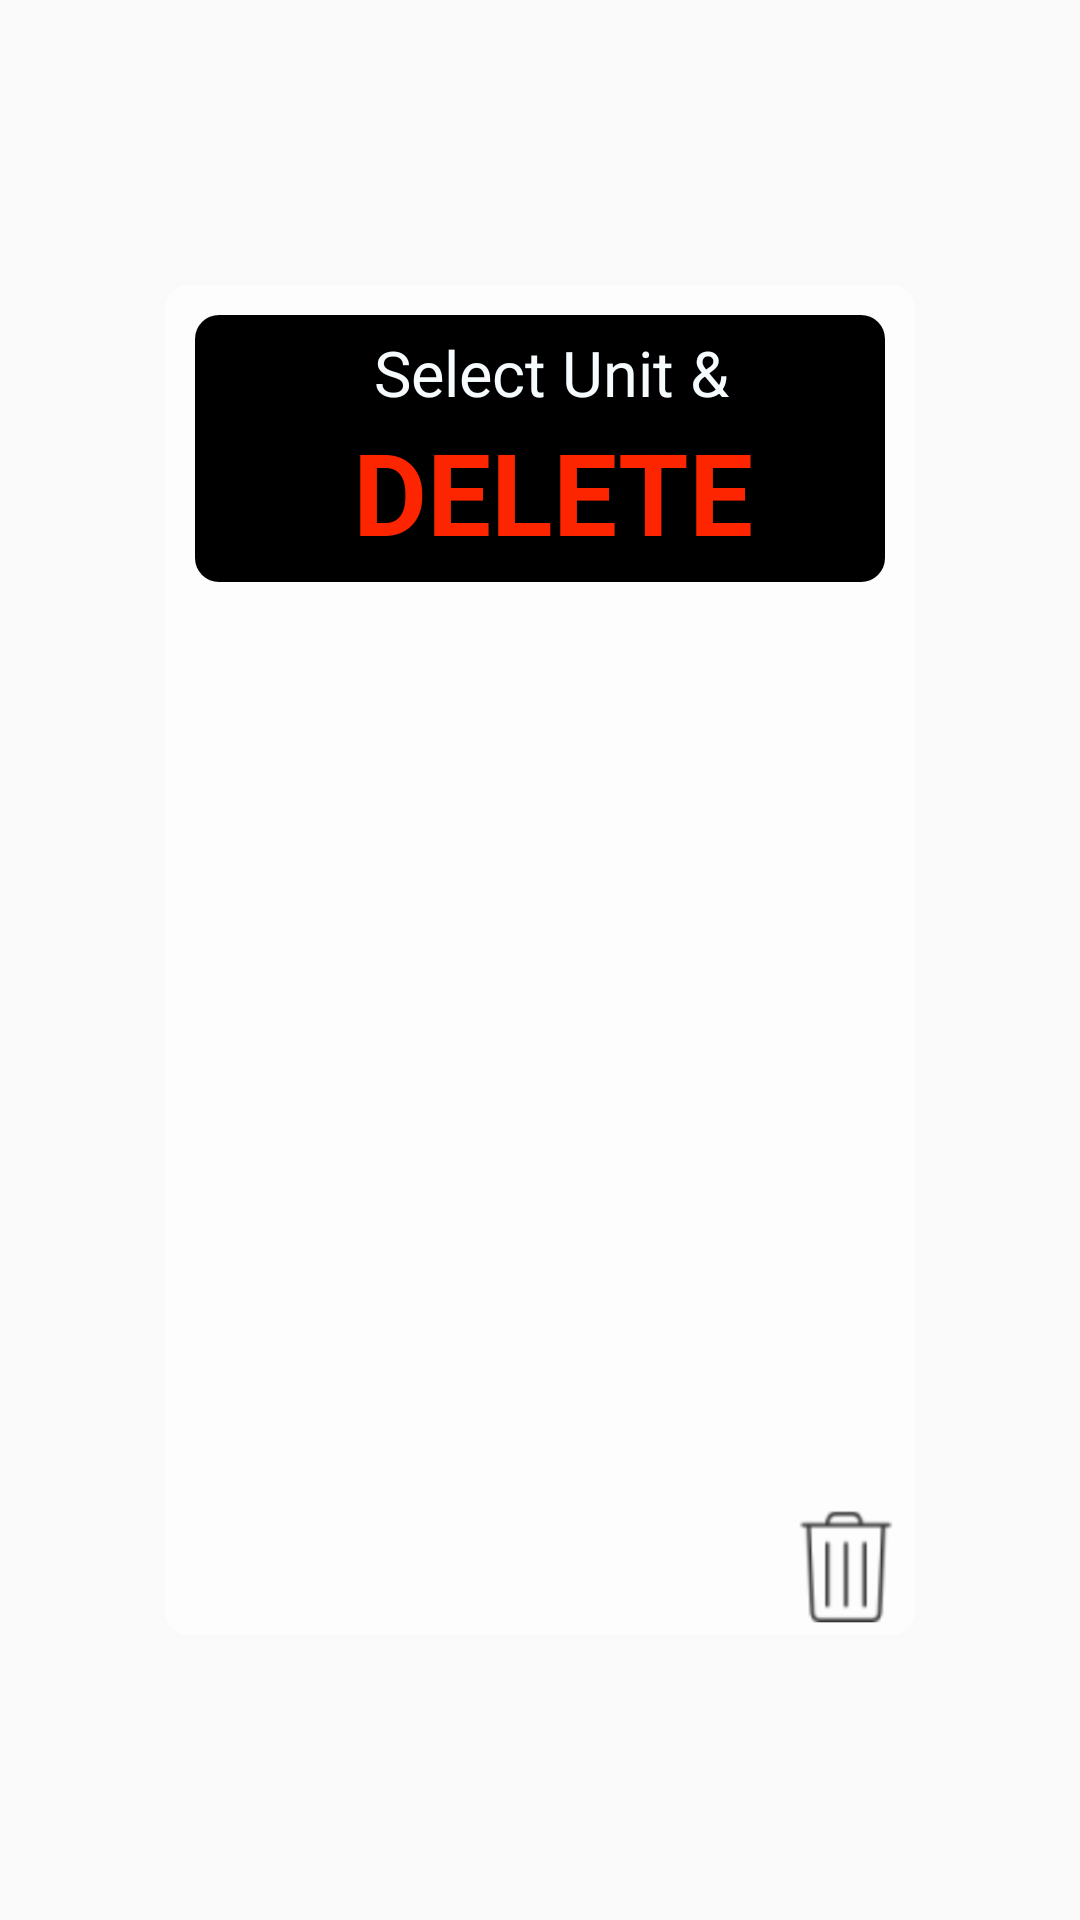

Icon bounding boxes for this 1080*1920 phone screenshot, format bbox(x1, y1, x2, y2):
delete: bbox(800, 1511, 892, 1623)
